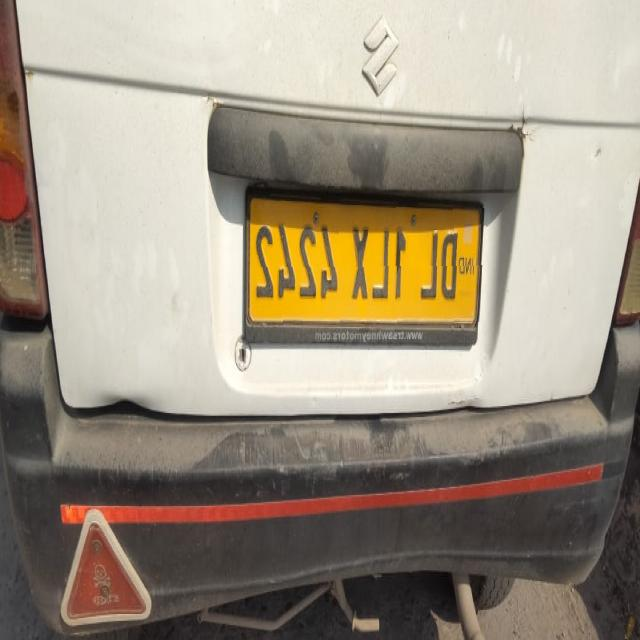License-plate: (250, 207, 486, 325)
